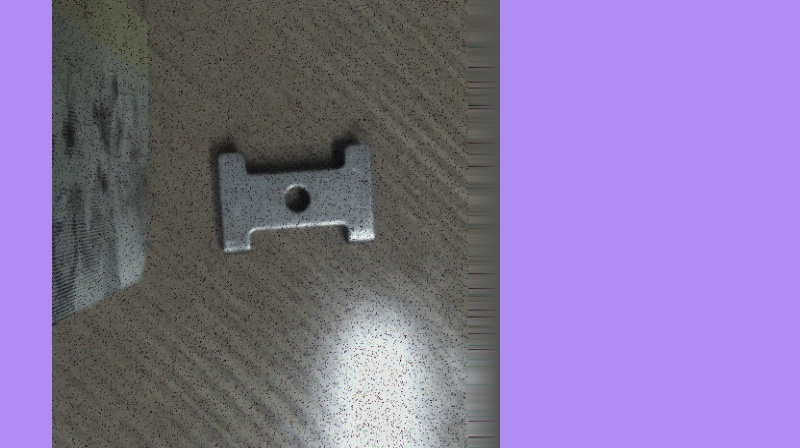O002: (206, 141, 376, 254)
